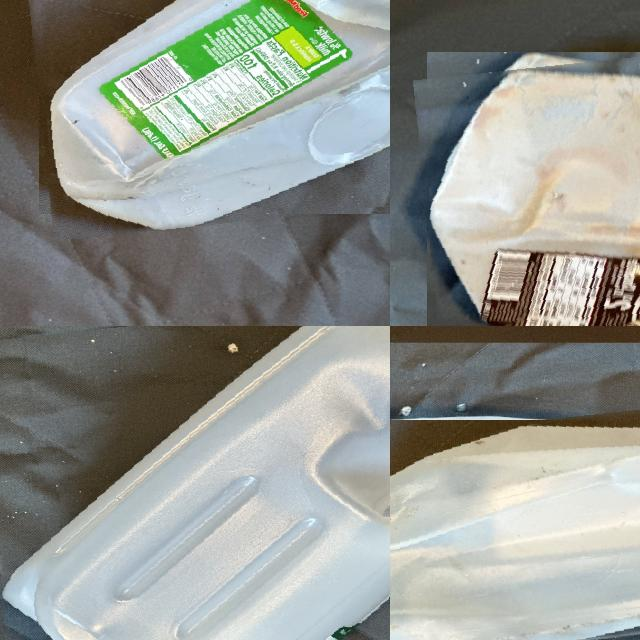milk-jug: (0, 326, 390, 640), (33, 0, 390, 226), (420, 37, 640, 326), (390, 405, 640, 640)
